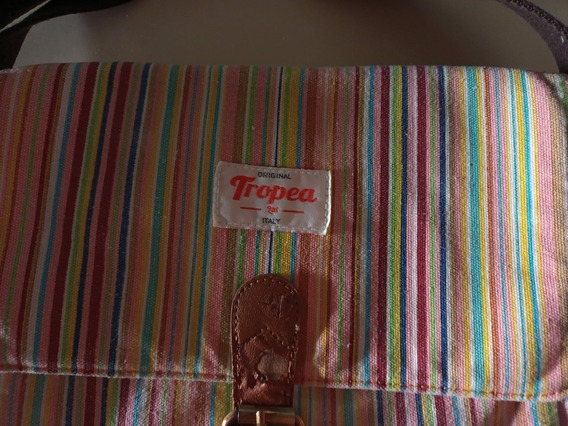cartera: (2, 60, 568, 426)
